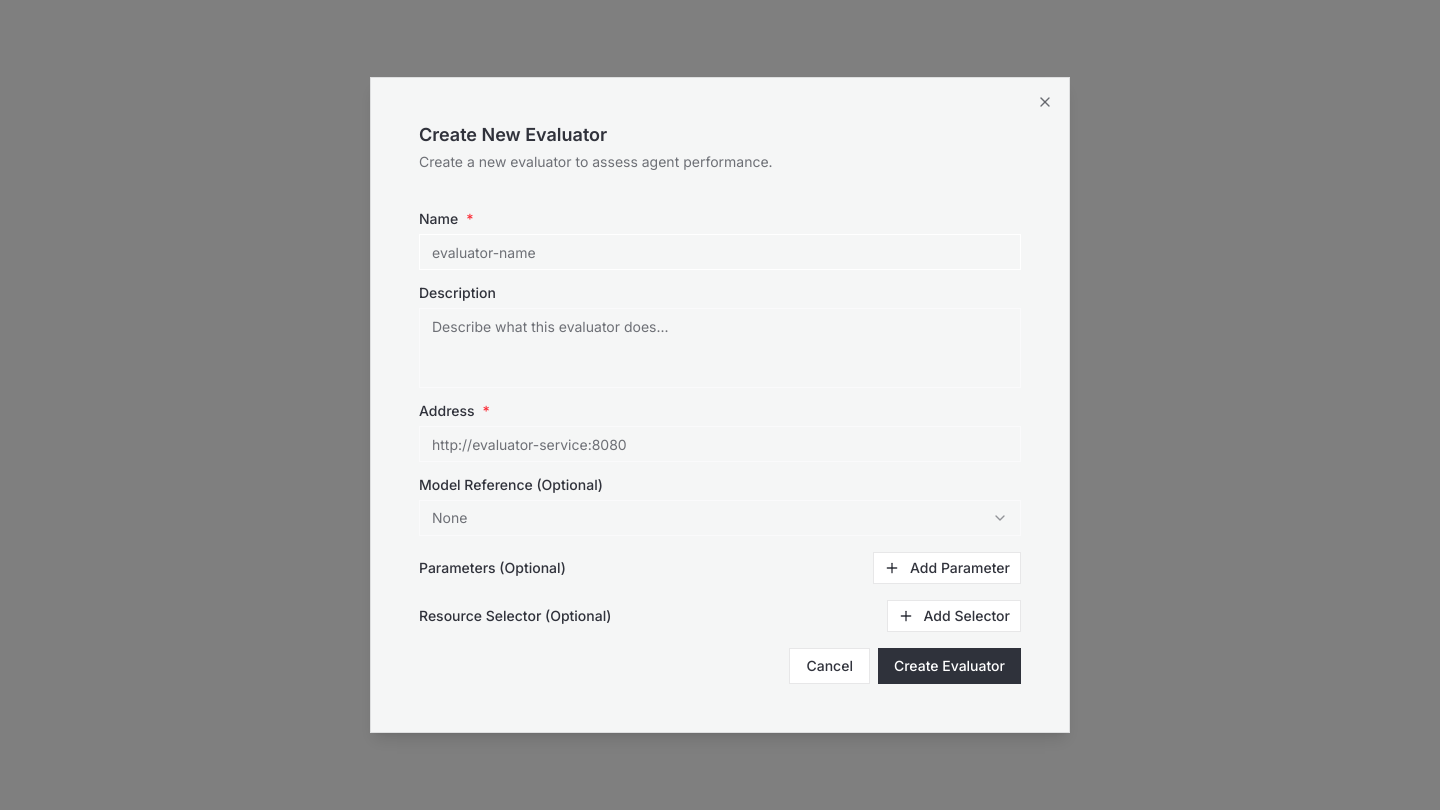
it: EvaluatorEditor › validation › should show error when name is empty on submit
Click the button "Create Evaluator" at (949, 666), box [878, 648, 1021, 684]
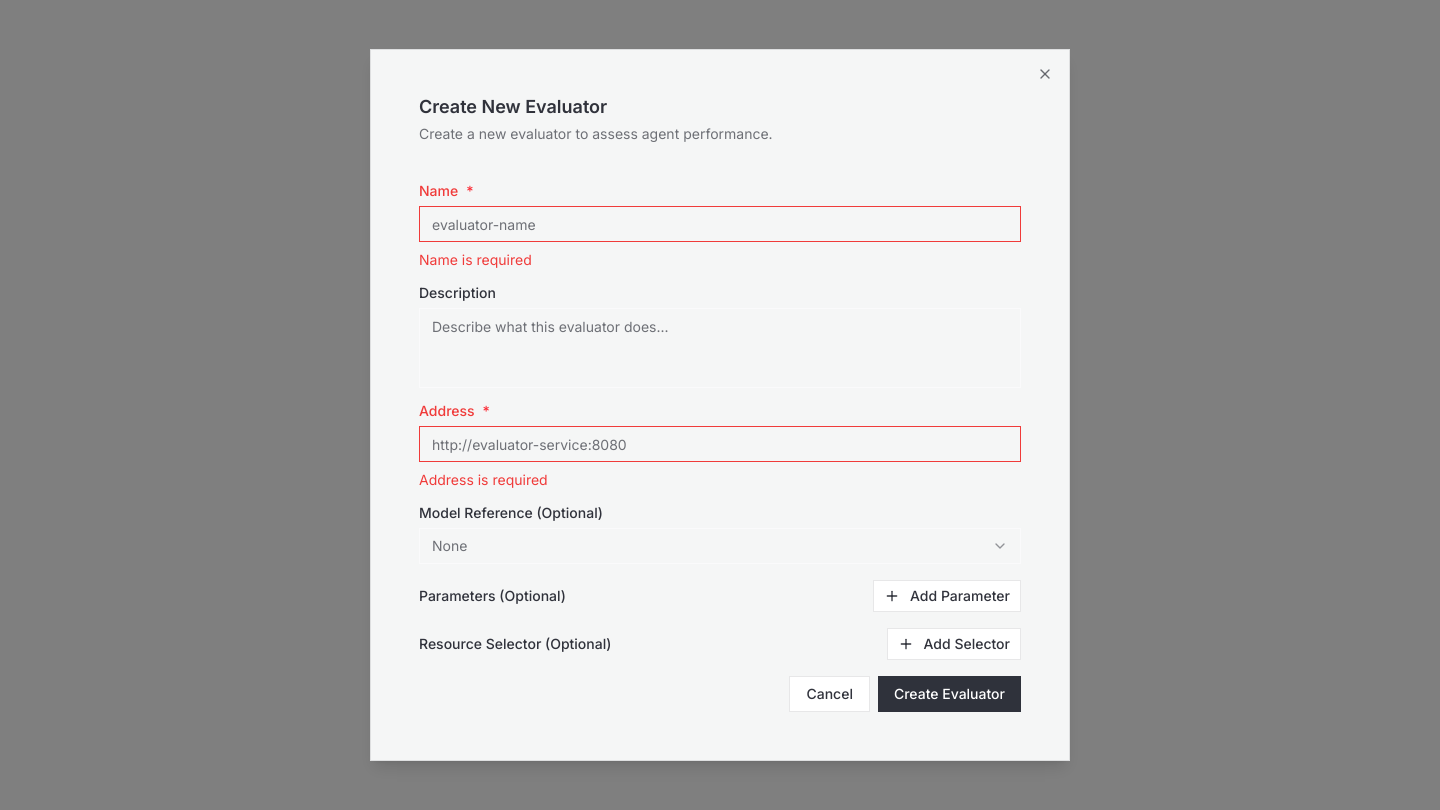
expect the text "Name is required" is shown: met, box [419, 251, 532, 268]
